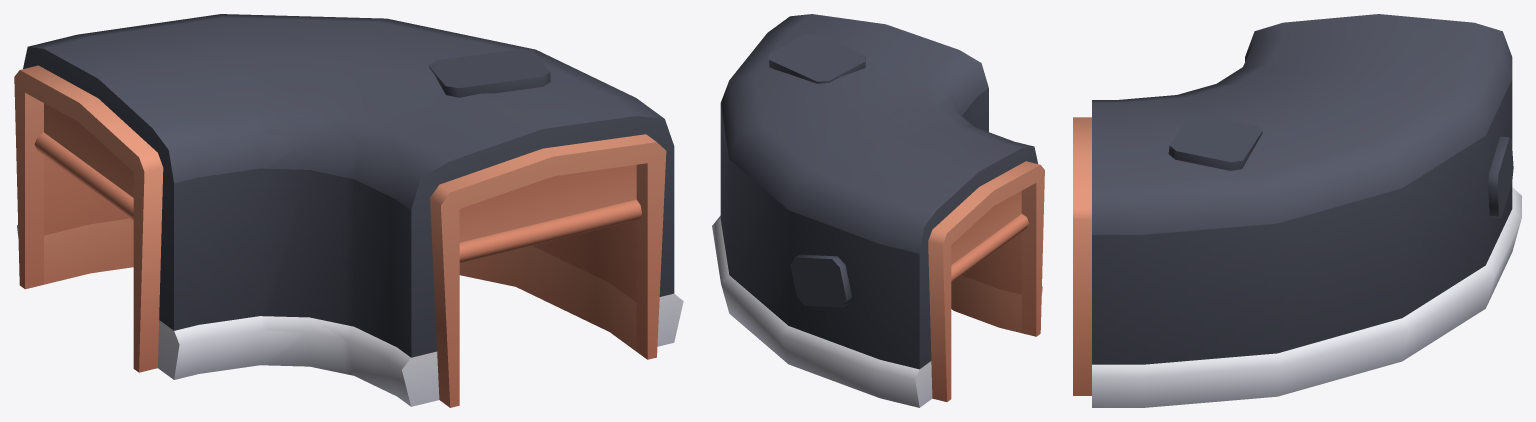
File: machine-bed.obj
3 views of the same model, side by side, from view 1: azimuth 30°, elevation 25°; view 2: azimuth 150°, elevation 25°; view 3: azimuth 270°, elevation 25° (orthographic). The views are drawn at different scales.
Visible parts, largest first — view 1: machine-bed; view 2: machine-bed; view 3: machine-bed.
Part boxes in pixels (<box>): machine-bed: <box>14,14,683,407</box>; machine-bed: <box>712,14,1044,407</box>; machine-bed: <box>1073,14,1521,407</box>.
Bounding box in the file's own units: 2.35 × 1.3 × 2.35.
